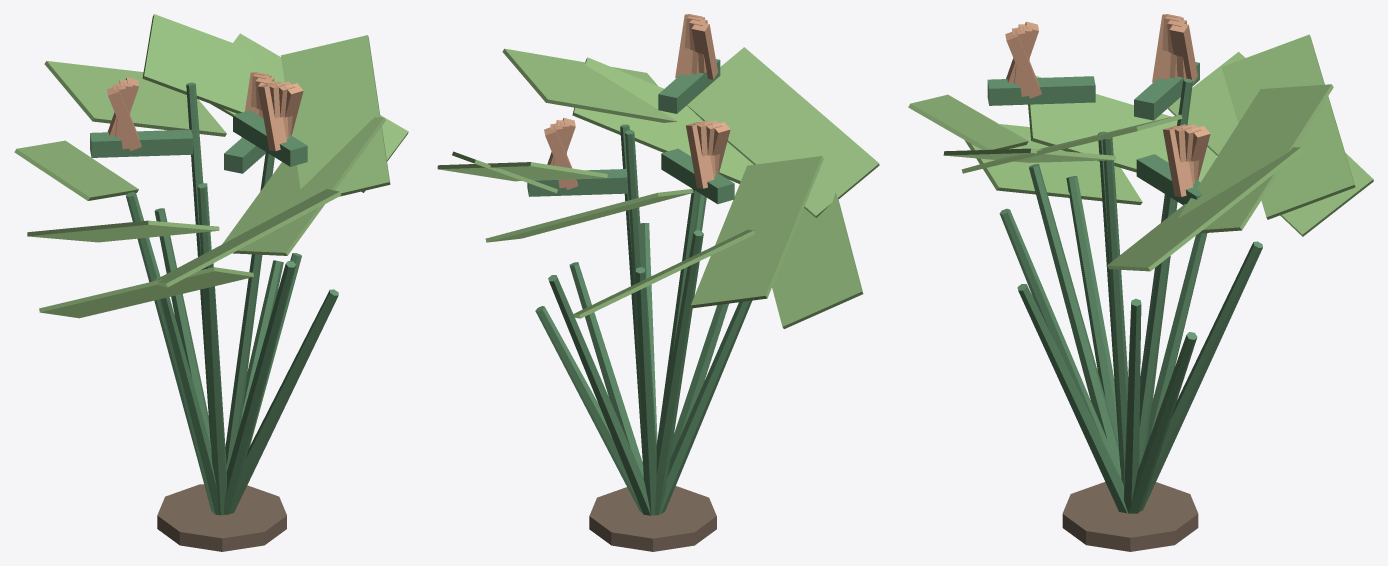
The model's file is botanical-glasshouse-and-palm-house-botanical-glasshou-c9003ec1__38580.glb.
3 renders of one model, left to right at view 1: azimuth 30°, elevation 25°; view 2: azimuth 150°, elevation 25°; view 3: azimuth 270°, elevation 25°, orthographic. The views are drawn at different scales.
Parts seen in each view (by area): view 1: botanical-glasshouse-and-palm-house-bird-of-paradise-clump; view 2: botanical-glasshouse-and-palm-house-bird-of-paradise-clump; view 3: botanical-glasshouse-and-palm-house-bird-of-paradise-clump.
Boxes of the visible parts, <box> form: botanical-glasshouse-and-palm-house-bird-of-paradise-clump: <box>14,14,408,551</box>; botanical-glasshouse-and-palm-house-bird-of-paradise-clump: <box>437,14,879,551</box>; botanical-glasshouse-and-palm-house-bird-of-paradise-clump: <box>908,14,1373,551</box>.
Size of the model in its own units: 1.52 by 1.75 by 1.48.
